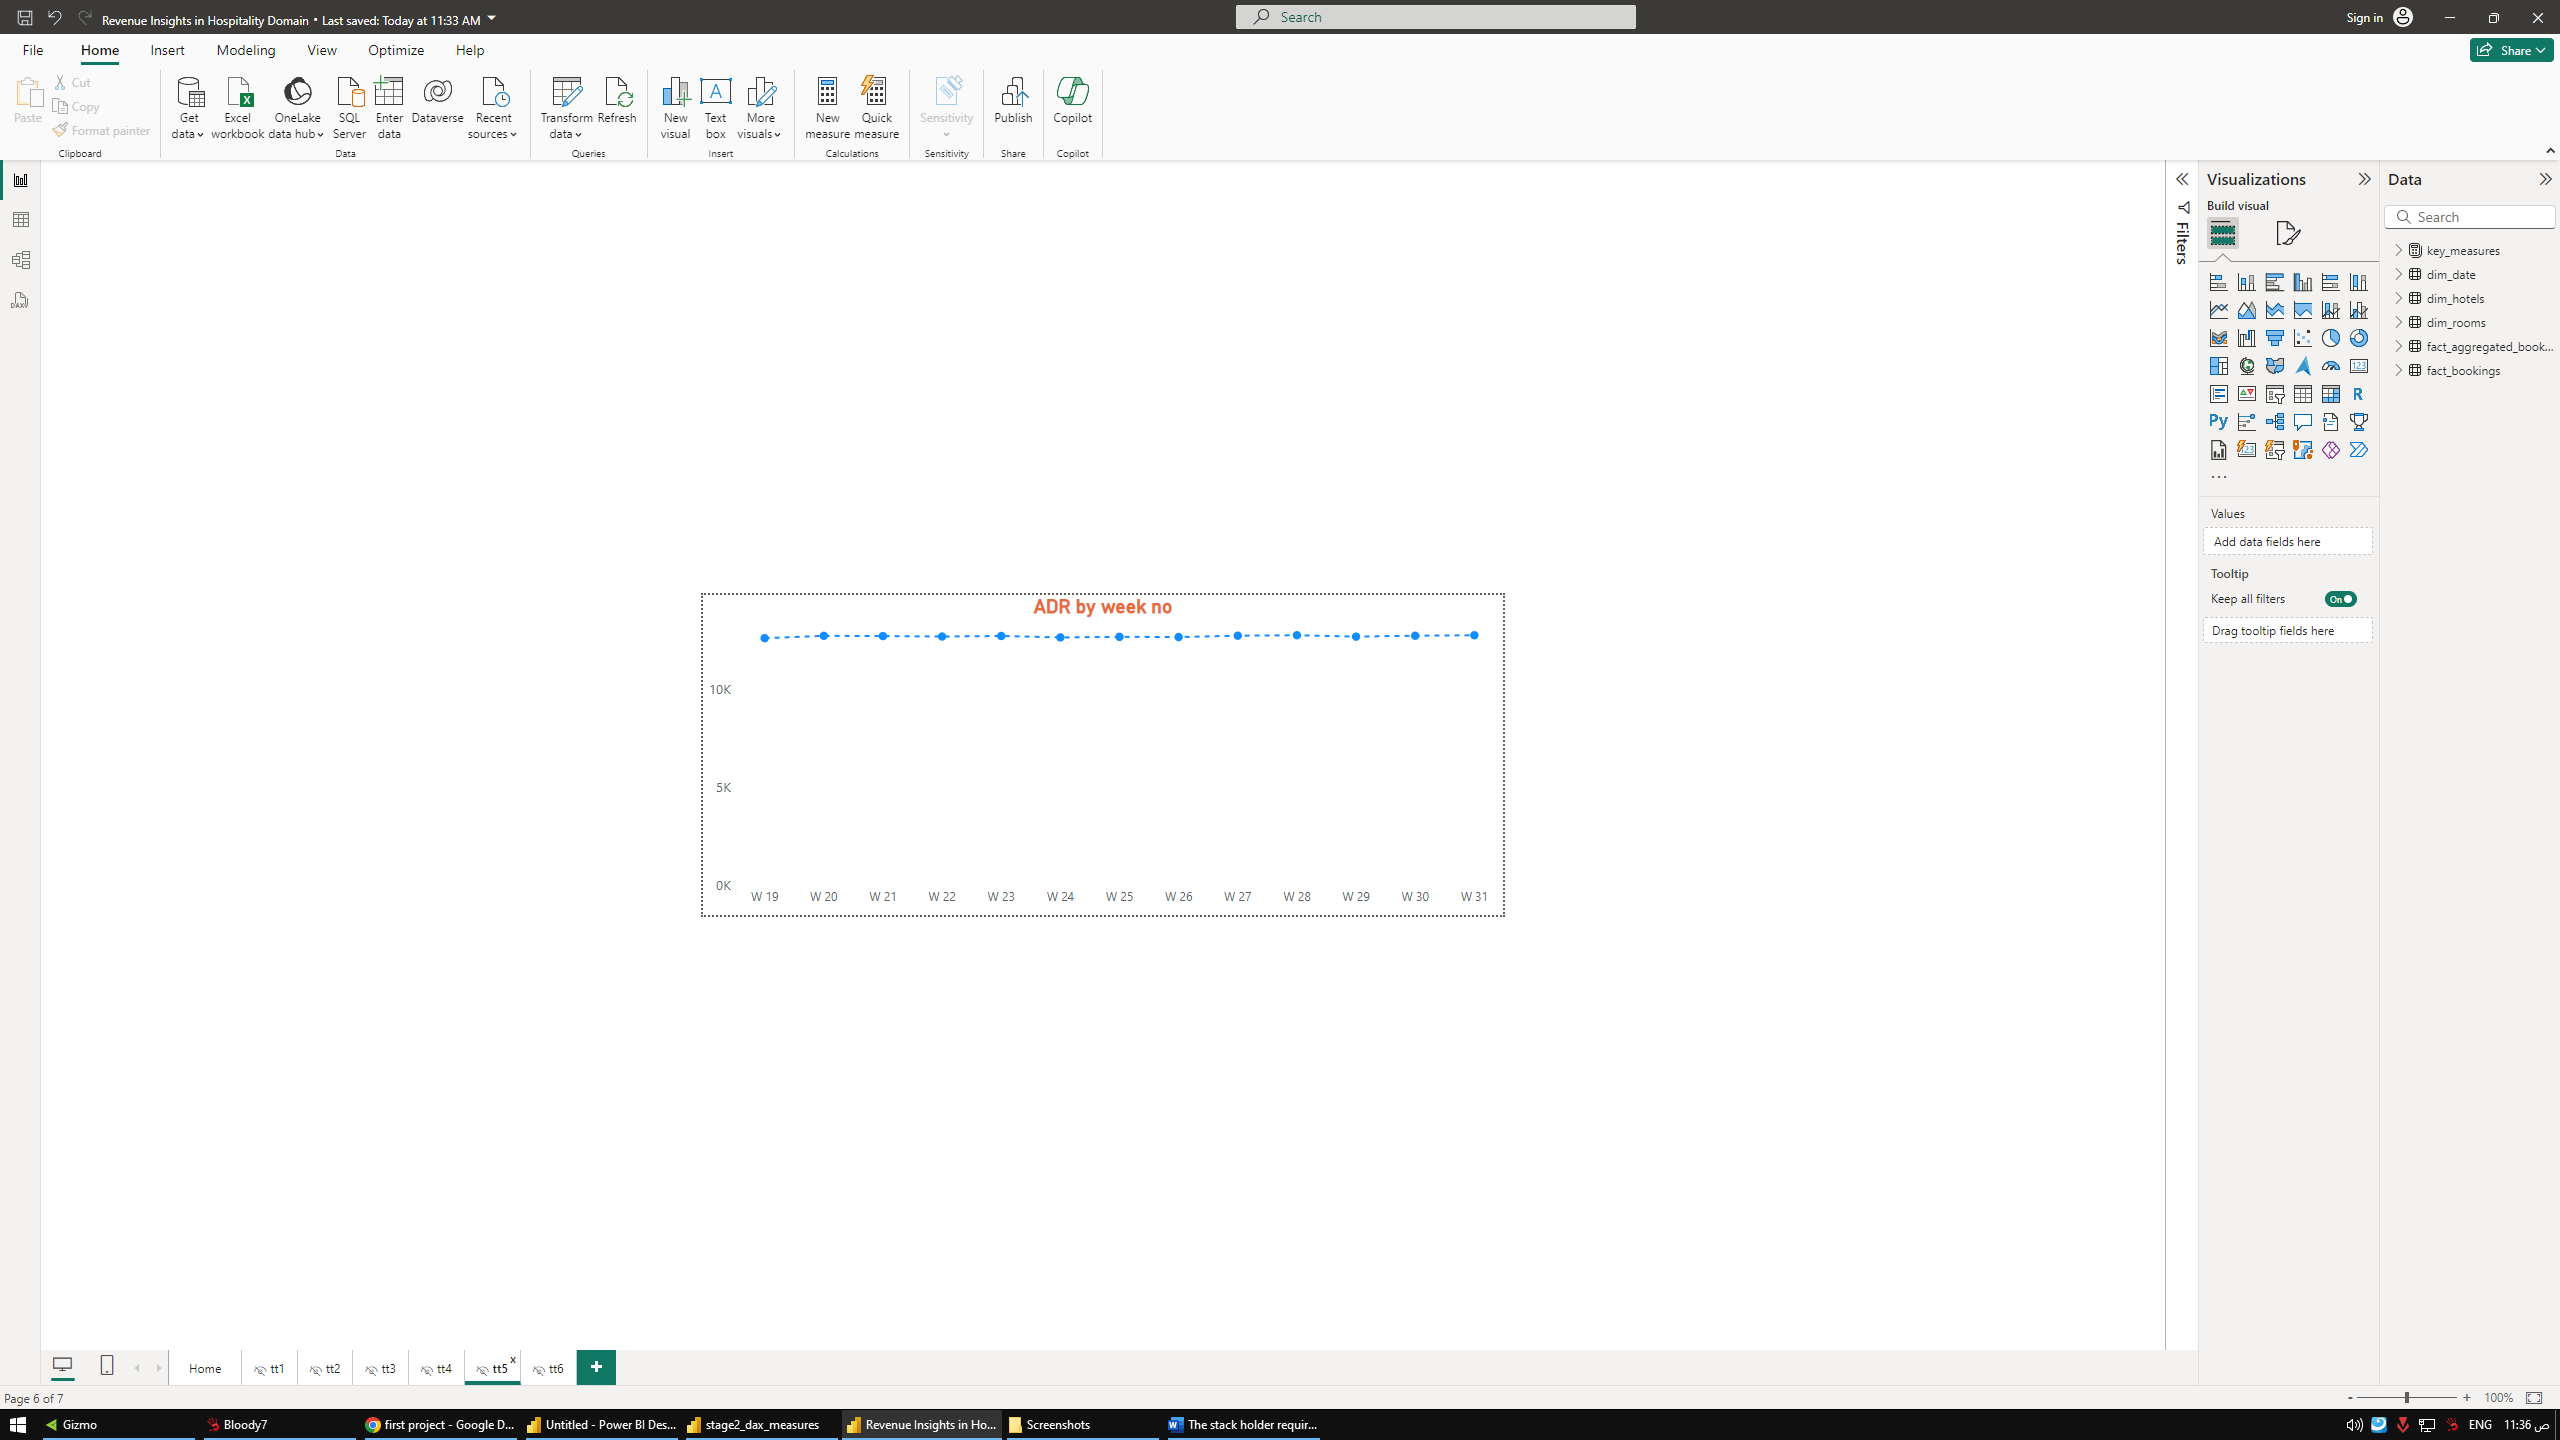

What the dashboard file says about the page in this screenshot:
{"tool":"powerbi","page":{"name":"tooltip revenue ","canvas":[800,400],"ordinal":1},"visuals":[{"type":"lineChart","fields":{"Y":["key_measures.Revenue"],"Category":["dim_date.week no"],"Series":["dim_hotels.category"]},"box":[0,0,684.9,283.5],"z":0}]}

Visuals, with their boxes on the page's 800x400 design canvas (x1, y1, x2, y2). These are canvas units, not pixel positions in the 2560x1440 screenshot, which may show the page scaled, cropped or inside an application window:
lineChart - key_measures.Revenue x dim_date.week no: <bbox>0, 0, 685, 284</bbox>
